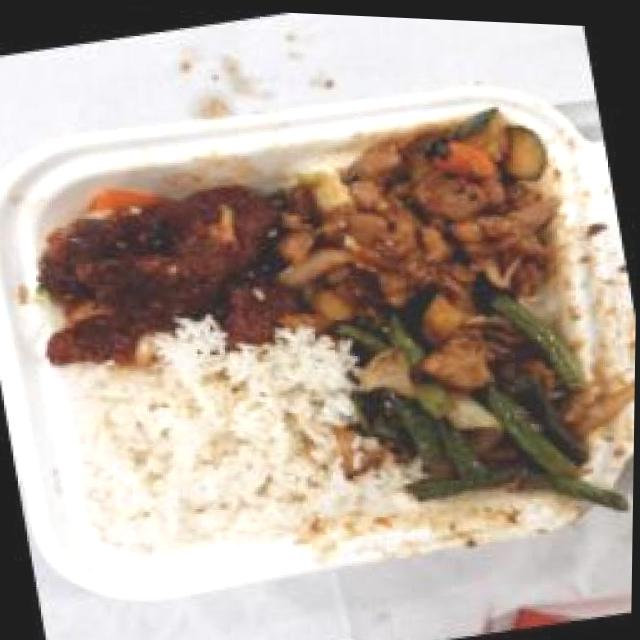Beijing Beef: (16, 144, 311, 384)
Kung Pao Chicken: (264, 84, 597, 356)
String Bean Chicken Breast: (342, 274, 625, 522)
White Steamed Rice: (58, 317, 374, 583)
